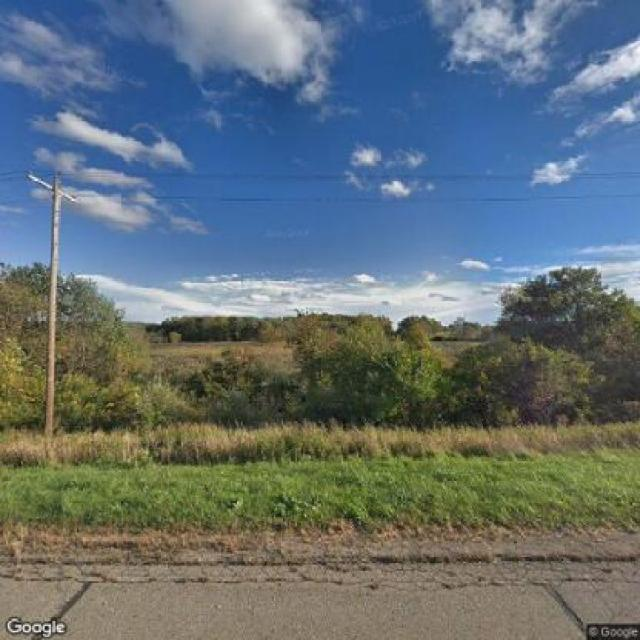pole: (18, 156, 93, 436)
